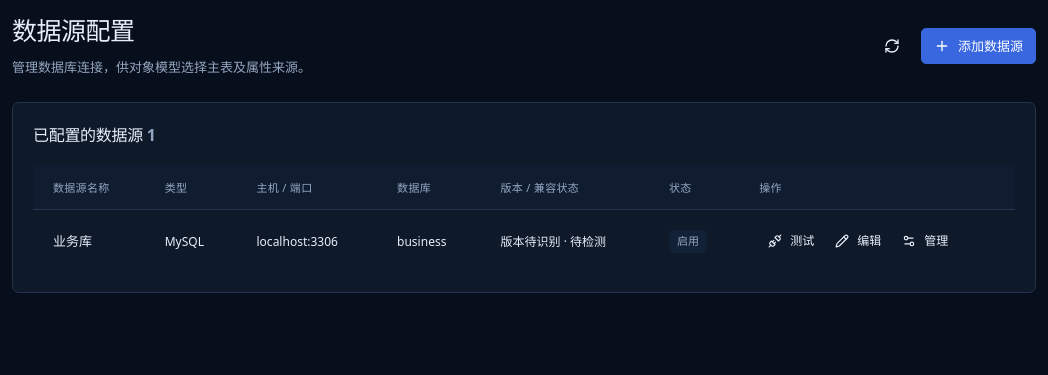
Test: 数据源表格与数据库管理 › 列表测试已保存配置并显示真实成功或失败，不打开编辑器
This screenshot has width=1048, height=375.
Click the button "测试" at [791, 241], box [759, 224, 823, 258]
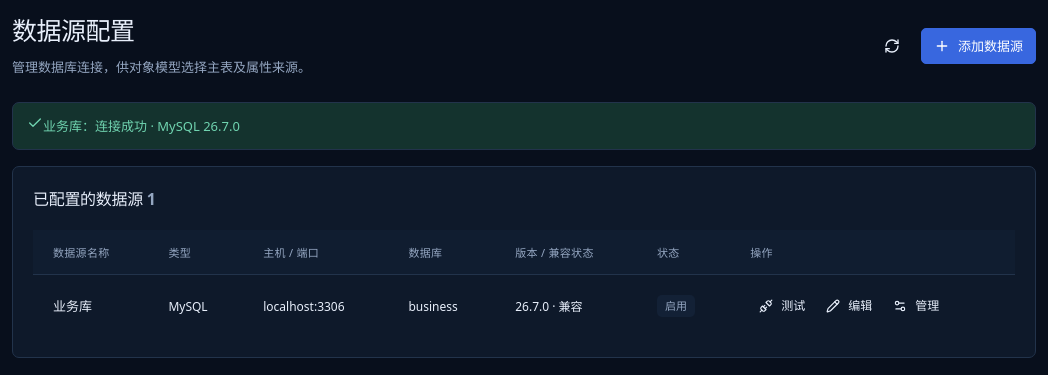
Check: the text "业务库：连接成功 · MySQL 26.7.0" is shown, box [12, 102, 1036, 150]
Click the button "测试" at [782, 306], box [750, 289, 814, 323]
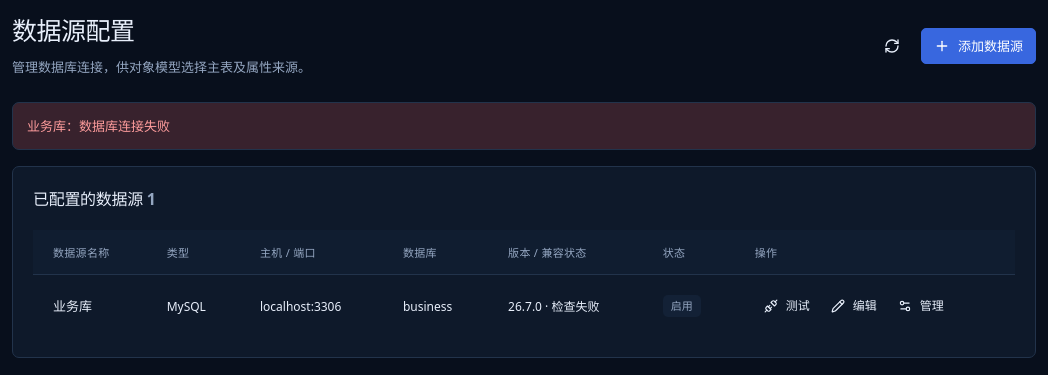
Check: the message shows "数据库连接失败", box [27, 117, 170, 135]
